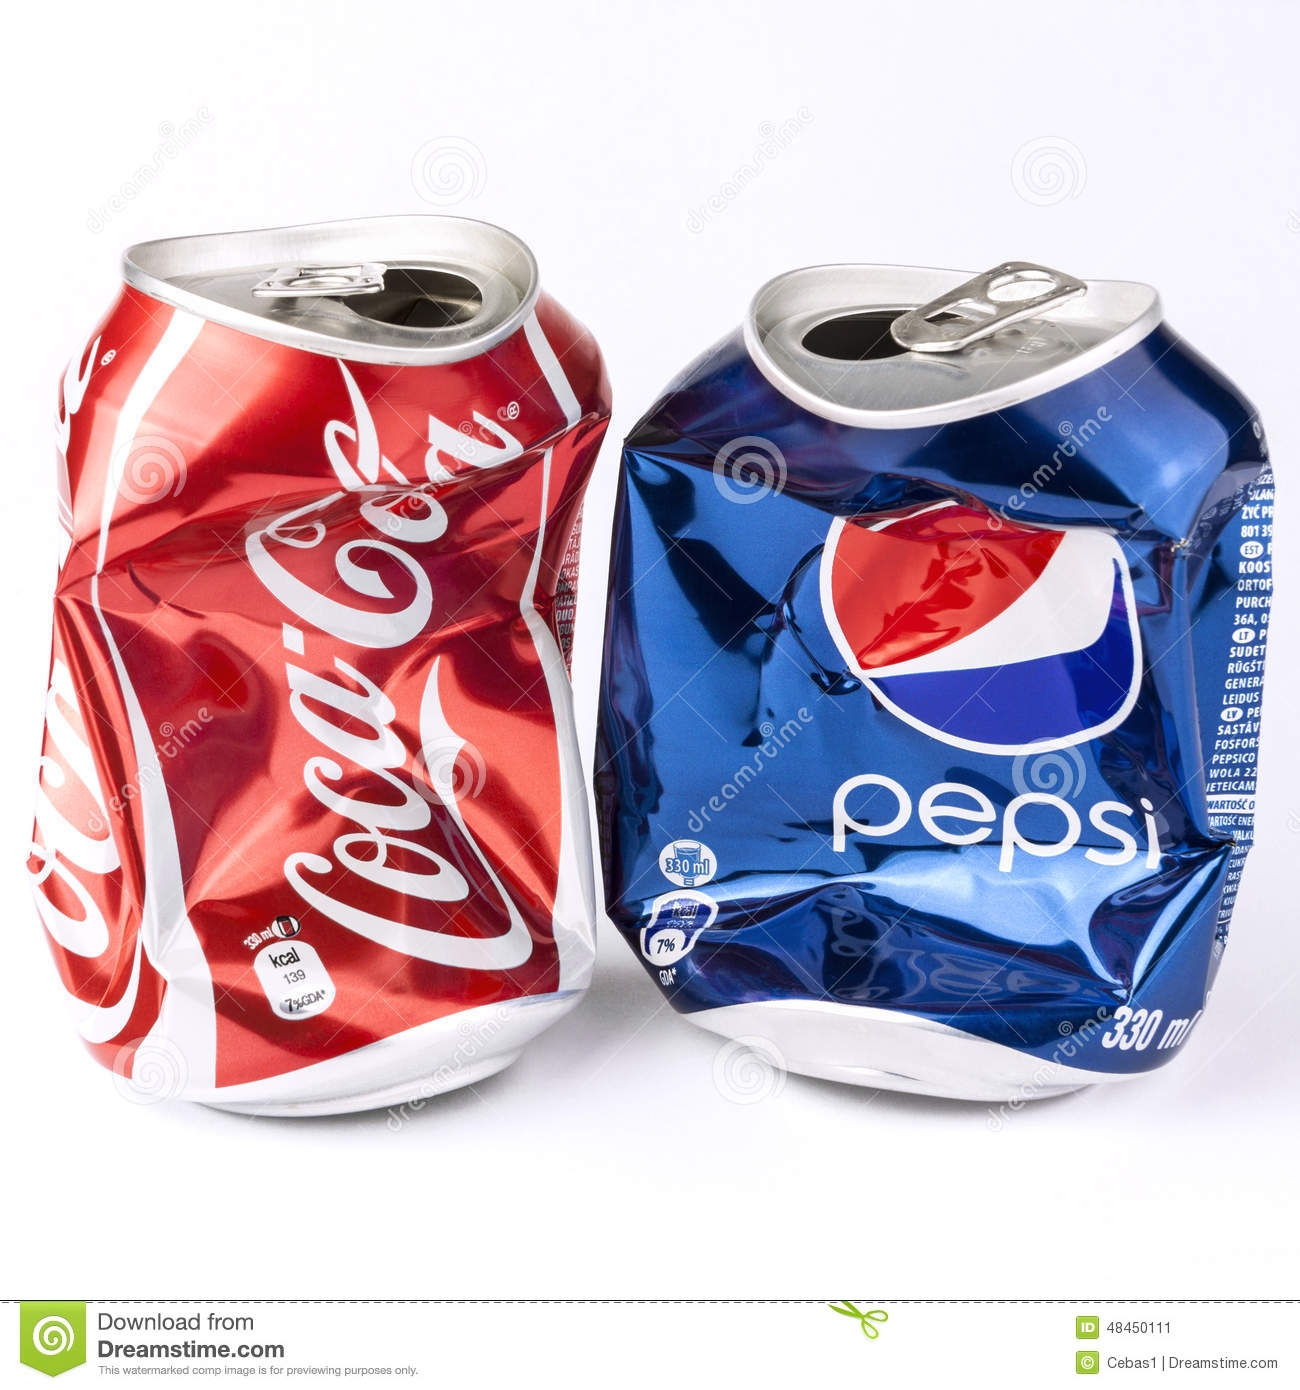metal: (578, 169, 1294, 1123), (16, 197, 659, 1144)
